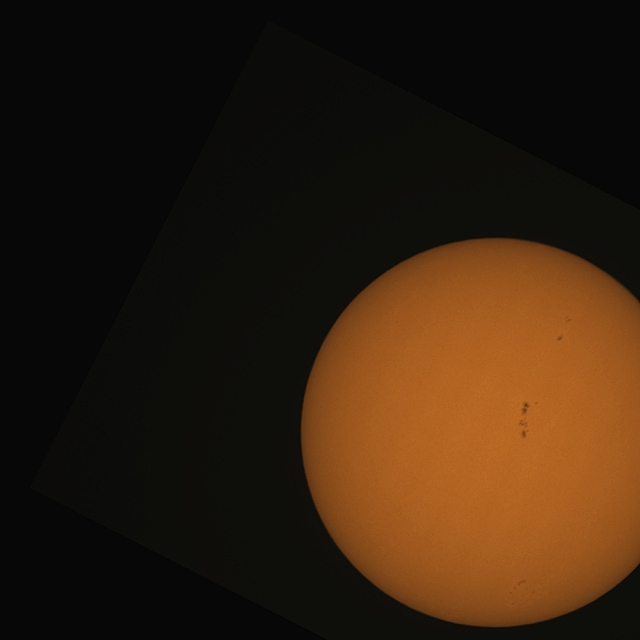sunspot: (518, 400, 534, 440), (509, 579, 526, 596), (518, 419, 530, 440), (564, 315, 572, 322), (556, 334, 563, 342), (511, 601, 514, 606)
